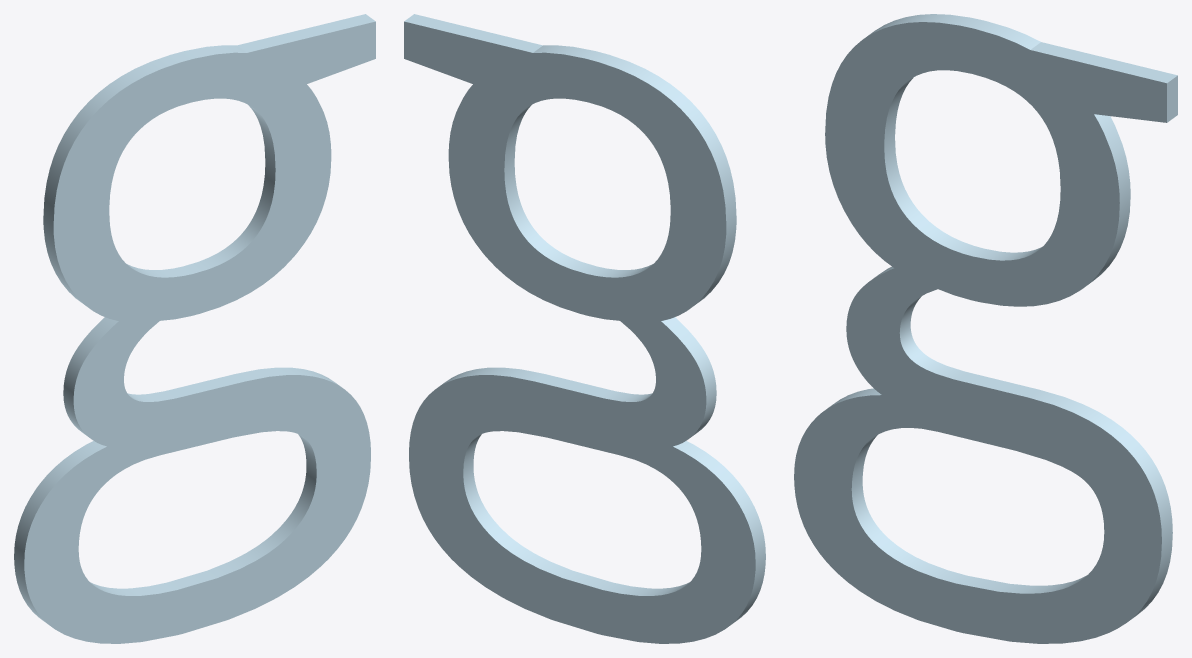
3 renders of one model, left to right at view 1: azimuth 30°, elevation 25°; view 2: azimuth 150°, elevation 25°; view 3: azimuth 330°, elevation 25°, orthographic. The views are drawn at different scales.
Visible parts, largest first — view 1: g; view 2: g; view 3: g.
Part boxes in pixels (box(x1,y1,x2,y2)): g: box(14, 14, 375, 643); g: box(404, 14, 765, 643); g: box(794, 14, 1177, 643).
Bounding box in the file's own units: 0.0397 × 0.0617 × 0.002.
